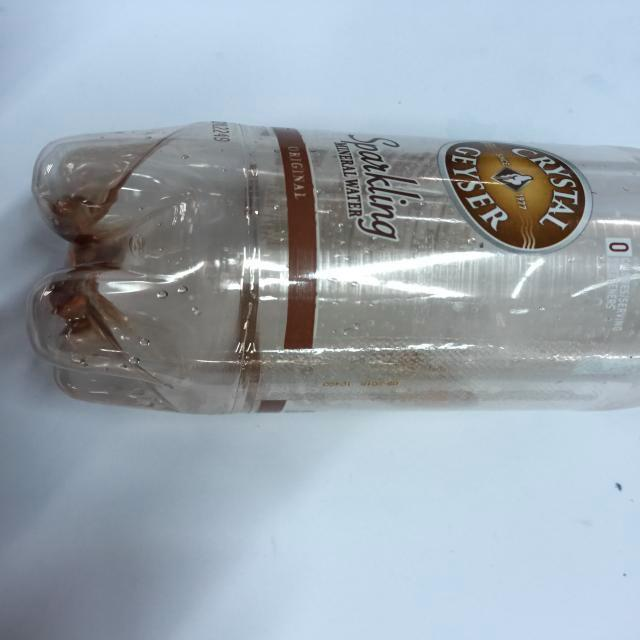plastic: (19, 76, 640, 422)
